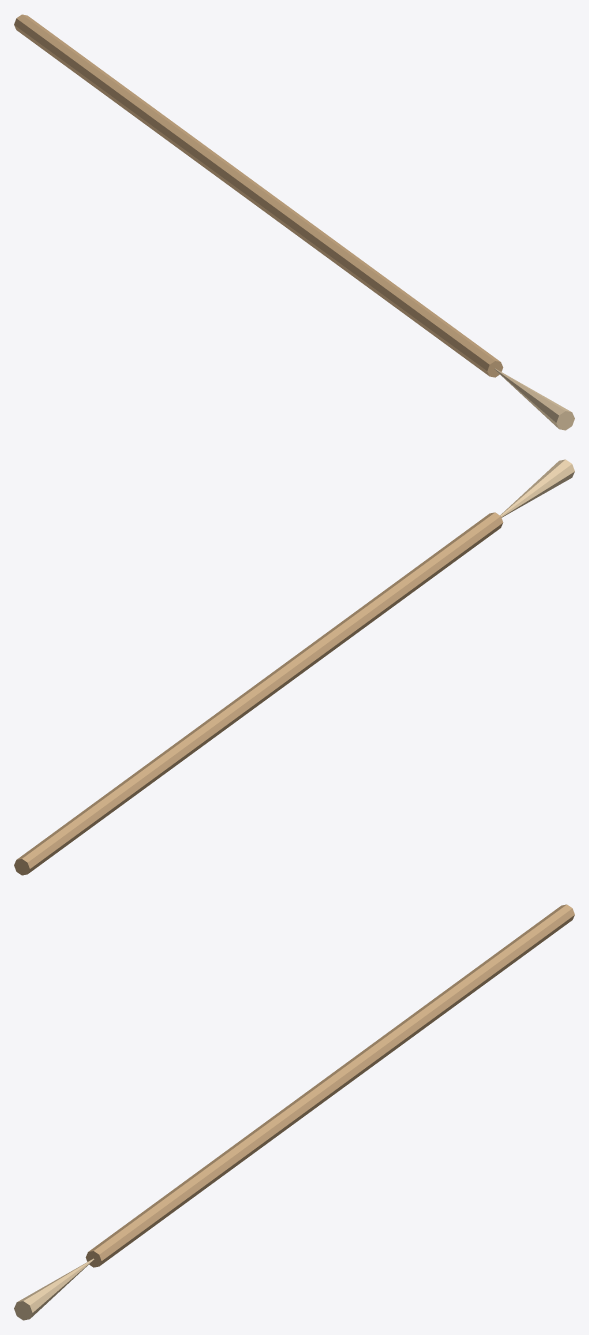
Rendered from SM_WoodenSpear.fbx.
The picture shows the model from 3 angles, top to bottom: view 1: azimuth 30°, elevation 25°; view 2: azimuth 150°, elevation 25°; view 3: azimuth 330°, elevation 25°; orthographic projection.
Visible parts, largest first — view 1: SM_WoodenSpear; view 2: SM_WoodenSpear; view 3: SM_WoodenSpear.
Part boxes in pixels (left/top/right/bottom): SM_WoodenSpear: left=14, top=14, right=574, bottom=430; SM_WoodenSpear: left=14, top=459, right=574, bottom=875; SM_WoodenSpear: left=14, top=904, right=574, bottom=1320.
Bounding box in the file's own units: 420 × 21250 × 420.
